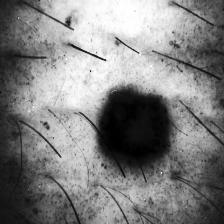Benign Marking or Mole: (99, 94, 170, 161)
